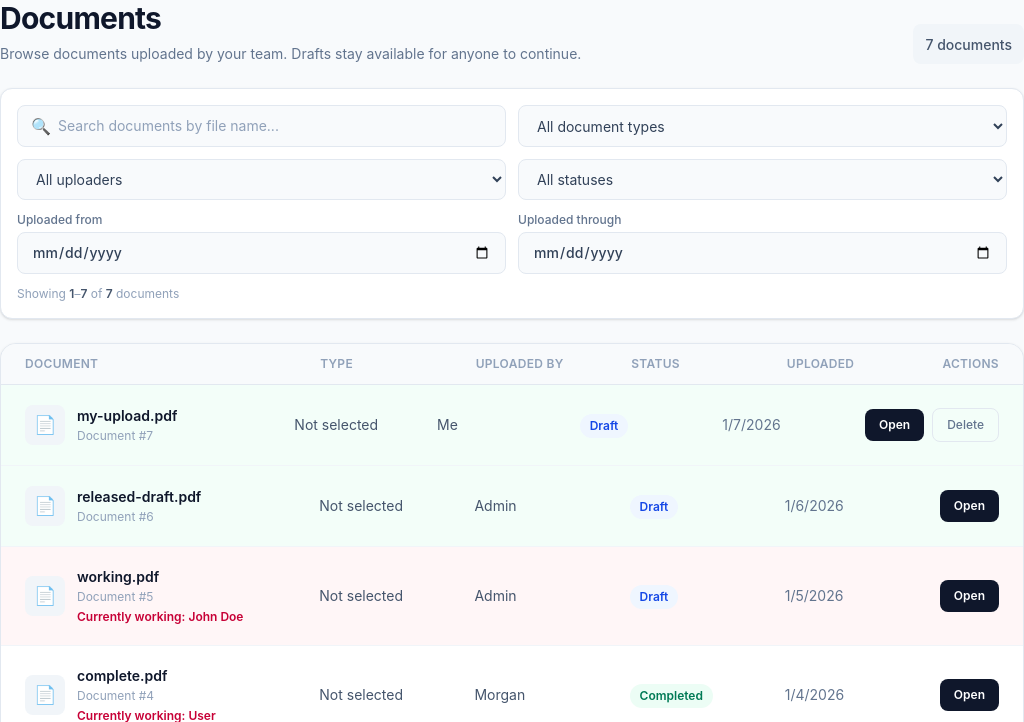
Scenario: DocumentList status filter › filters user documents by an inclusive upload date range
Type "2026-01-02" into the date field named "Filter documents uploaded from date".
click(262, 253); type("2026-01-02")  # box x1=17 y1=232 x2=506 y2=274
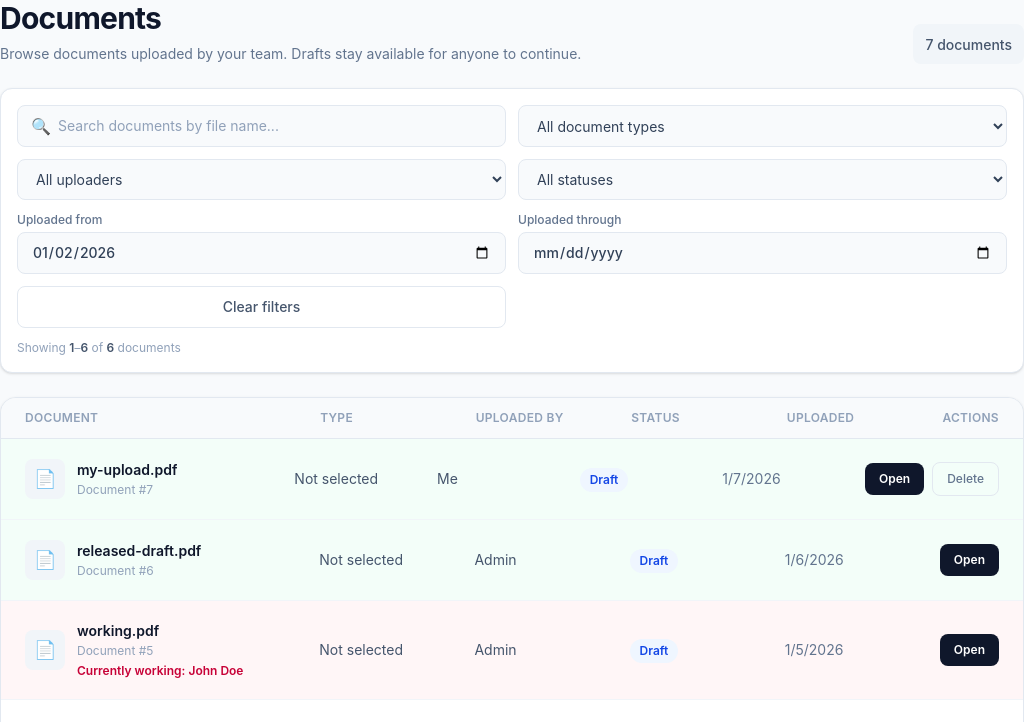
Type "2026-01-02" into the date field named "Filter documents uploaded through date".
click(762, 253); type("2026-01-02")  # box x1=518 y1=232 x2=1007 y2=274
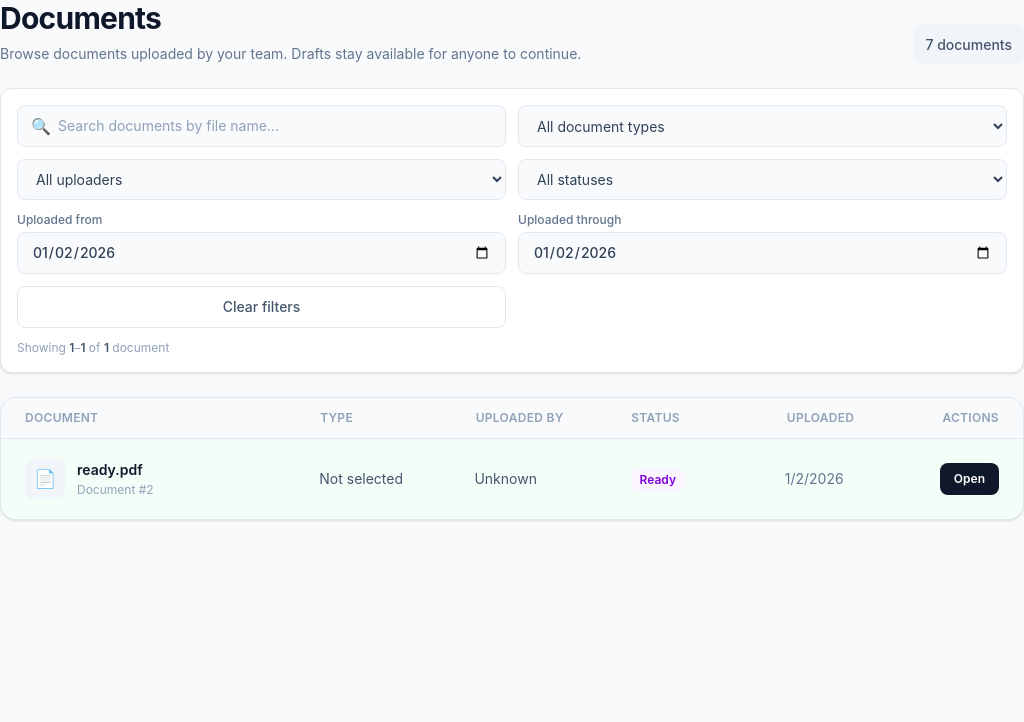
Result: the number of headings "ready.pdf" is 2
